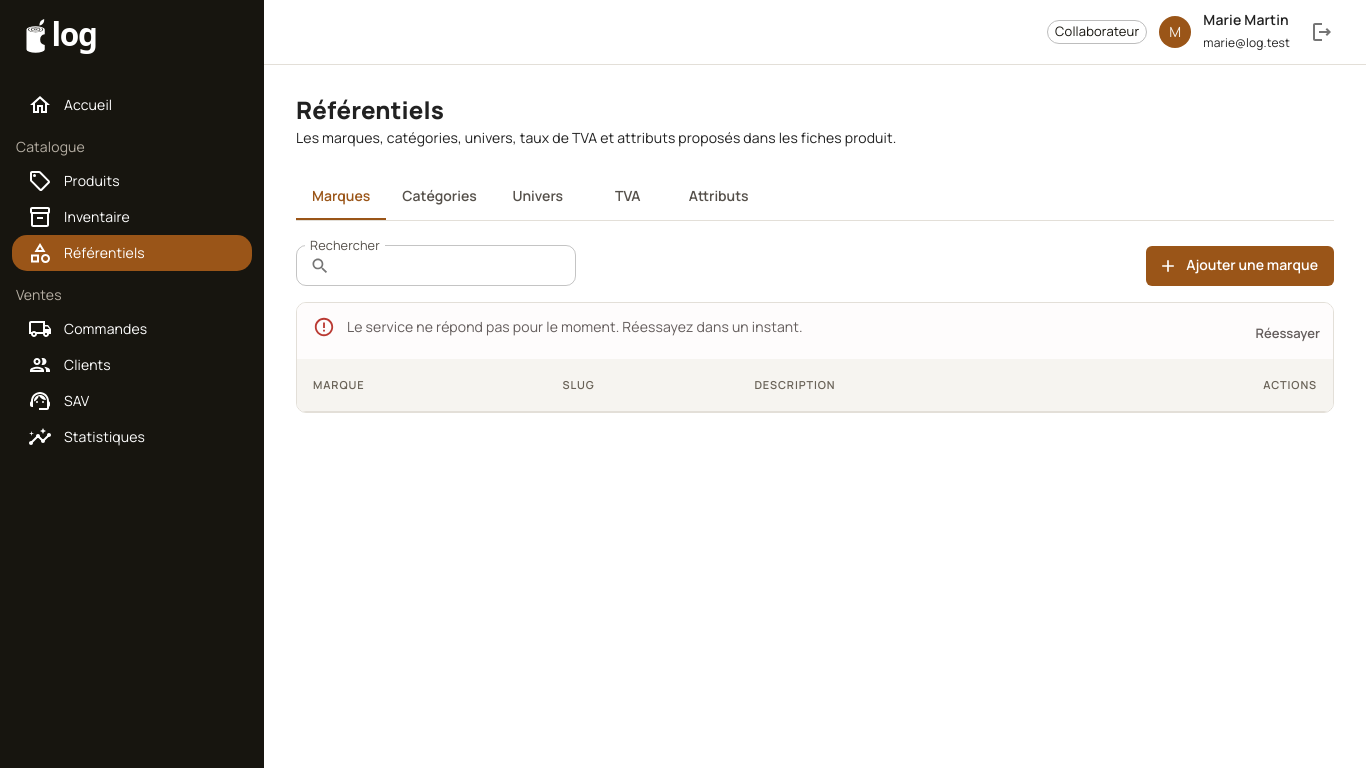
the reference lists (C19) › shows a load failure with a way to retry
Expected: the text "ne répond pas pour le moment" is shown, [347,318,803,336]
Step 1. Click the button "Réessayer" → x=1288, y=334, box [1250,314,1325,354]
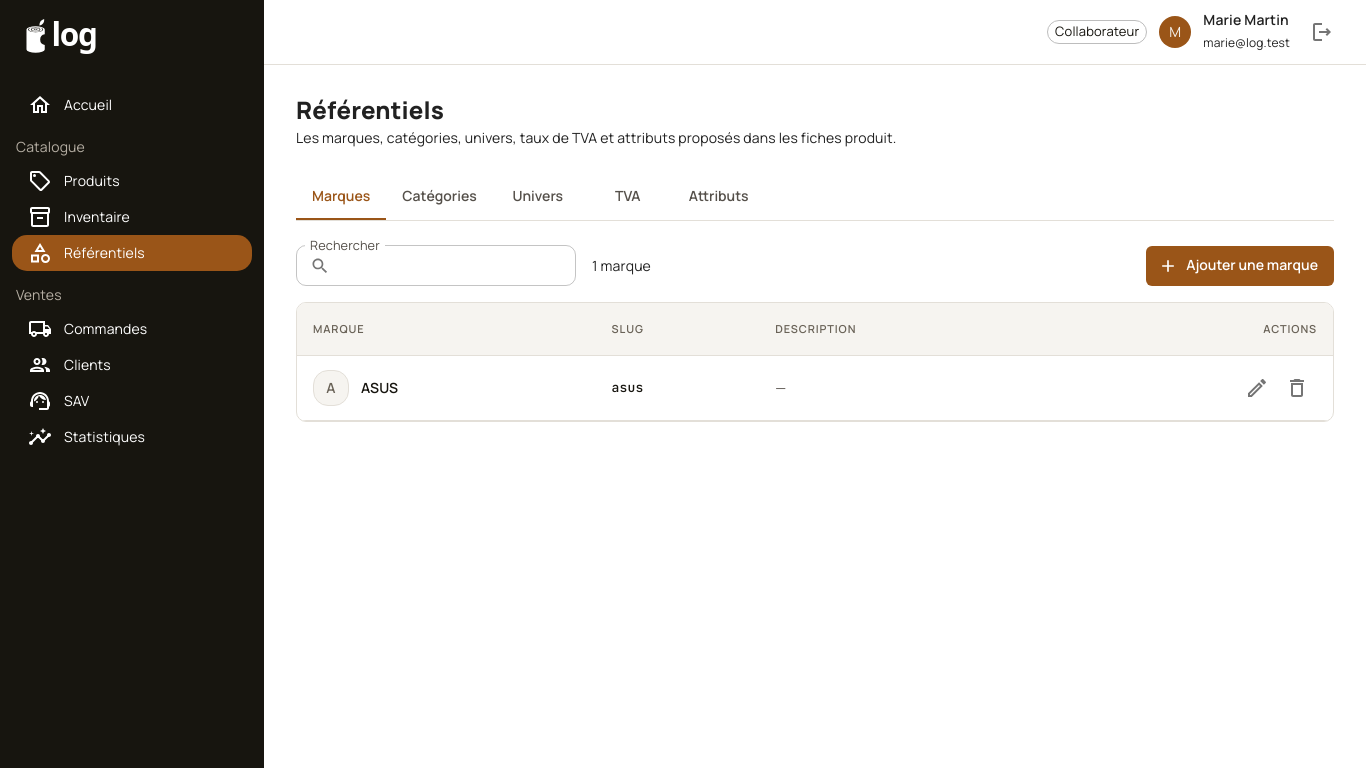
Expected: the column heading "A ASUS" is shown, [297,356,596,421]
